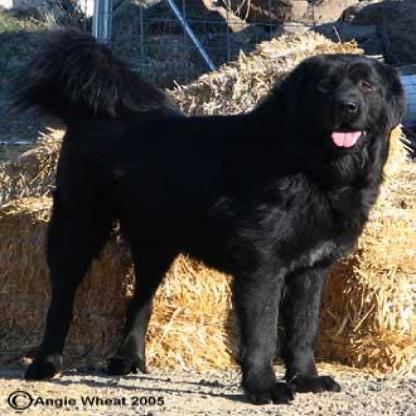Tibetan_mastiff: (7, 20, 413, 409)
